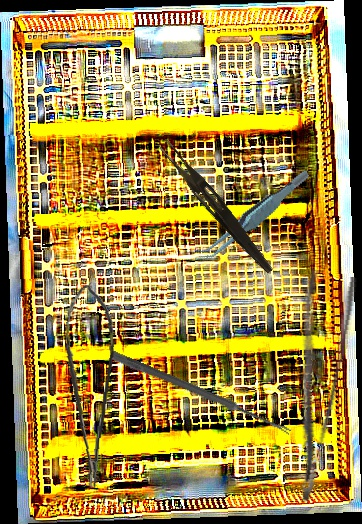Dressing Forceps: (262, 268, 362, 504), (153, 138, 280, 276)
Micro Scissor: (50, 282, 121, 489)
Surgical Spoon: (108, 350, 293, 436)
Tissue Forceps: (185, 169, 323, 263)
